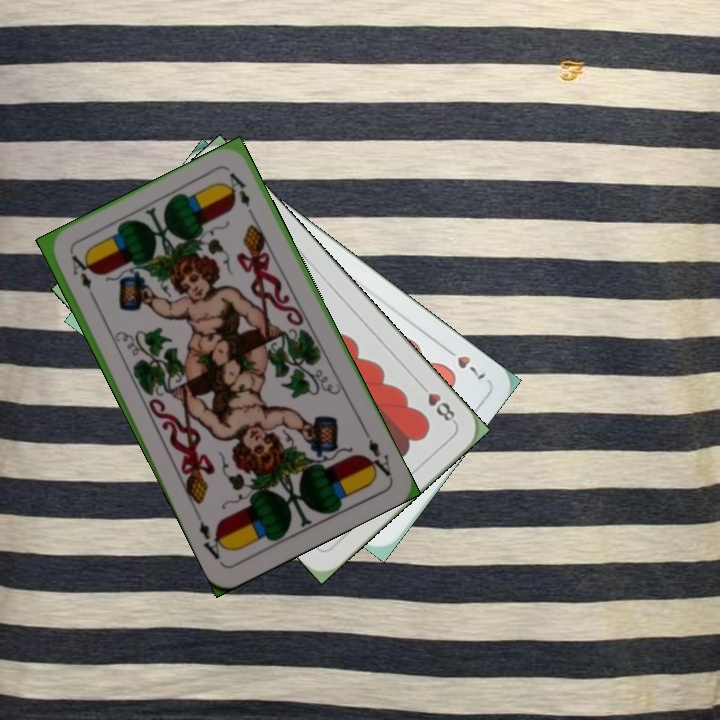EA: (359, 426, 394, 480), (67, 250, 99, 304)
H7: (439, 341, 489, 383)
H8: (414, 378, 459, 426)
